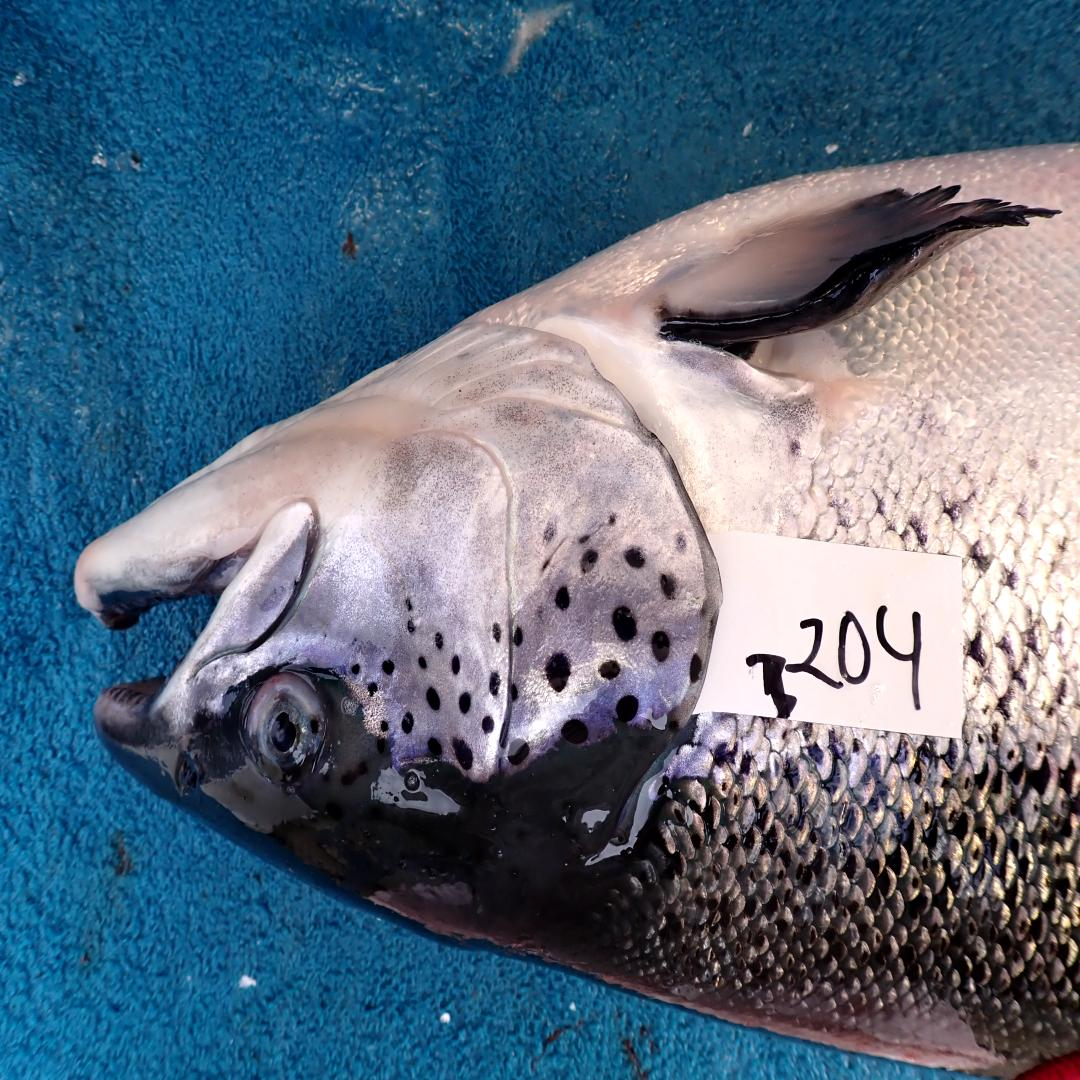roi: (312, 310, 720, 778)
